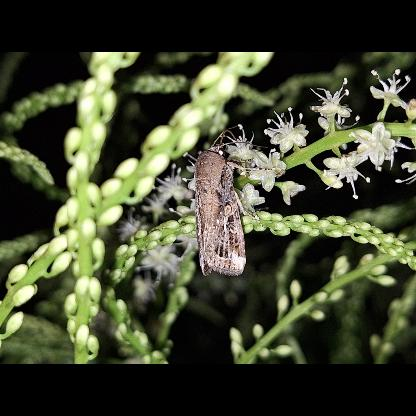Fall Armyworm Moth: (192, 123, 278, 279)
